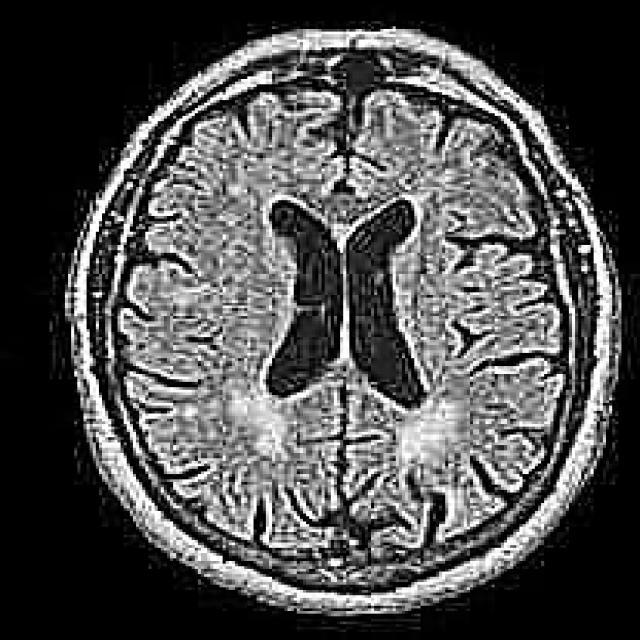notumor: (65, 29, 618, 614)
